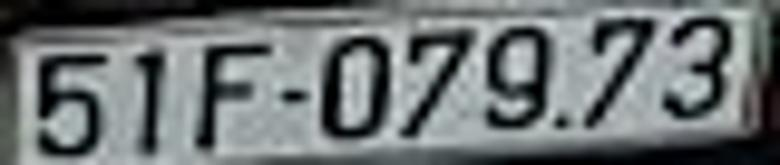-: (279, 82, 310, 111)
.: (549, 107, 572, 134)
0: (321, 34, 394, 138)
1: (135, 49, 163, 152)
3: (668, 15, 735, 126)
5: (31, 49, 113, 160)
7: (586, 17, 661, 130), (401, 29, 474, 138)
9: (484, 24, 548, 132)
F: (192, 42, 278, 152)
